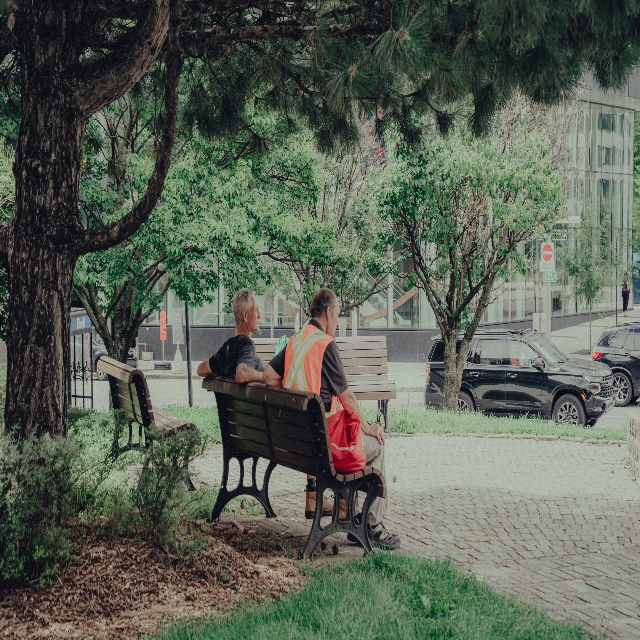Sin_guantes: (370, 422, 385, 445)
